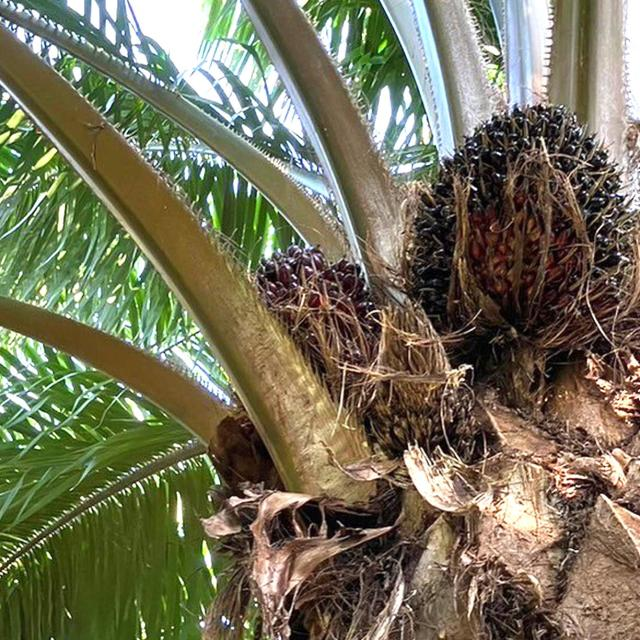ripe: (251, 241, 388, 416)
